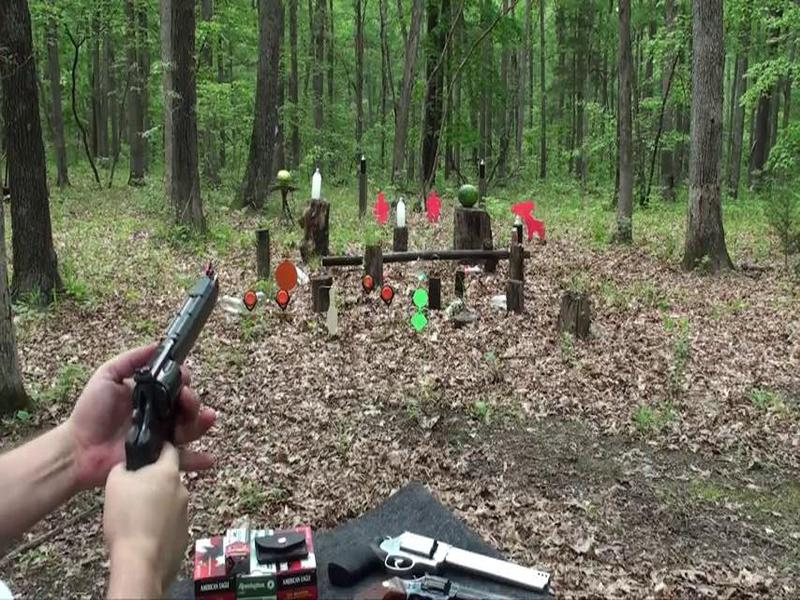Revolver: (102, 255, 258, 502)
